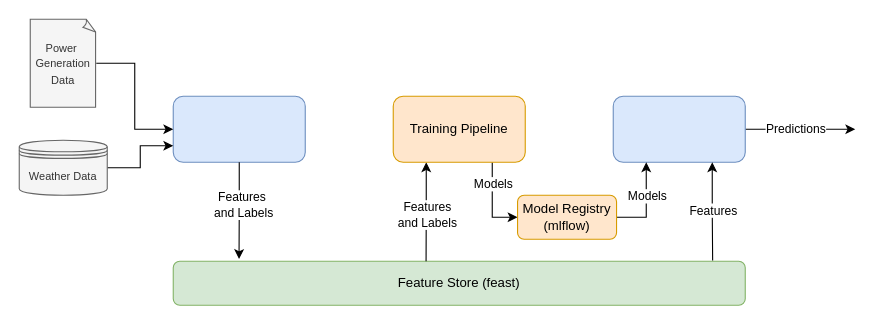
Some shapes in this 883 by 325 pixel diagram are drawn without their labels. The centre of each missing label's shape, as x and y in pixels:
Feature Pipeline: the point at 238,128
Inference Pipeline: the point at 678,128
